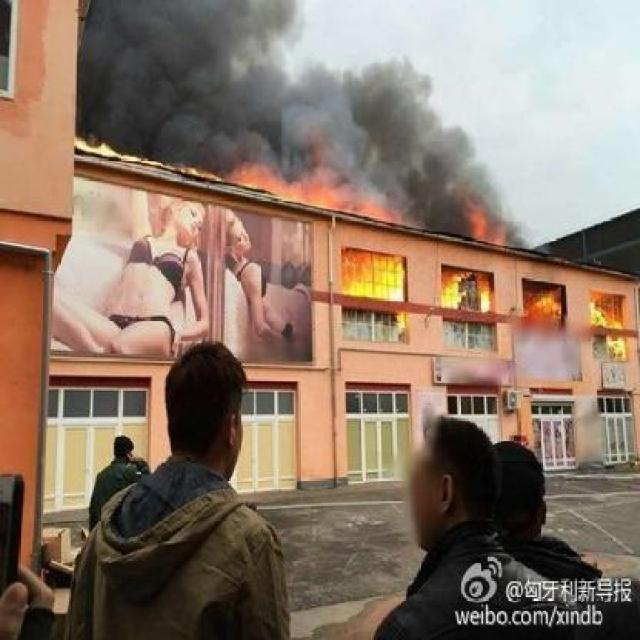Fire: (230, 168, 398, 219), (338, 240, 408, 294), (589, 295, 634, 364), (441, 266, 502, 311), (472, 212, 510, 254), (528, 285, 572, 320)
Smoke: (89, 2, 469, 164), (411, 168, 468, 233)
